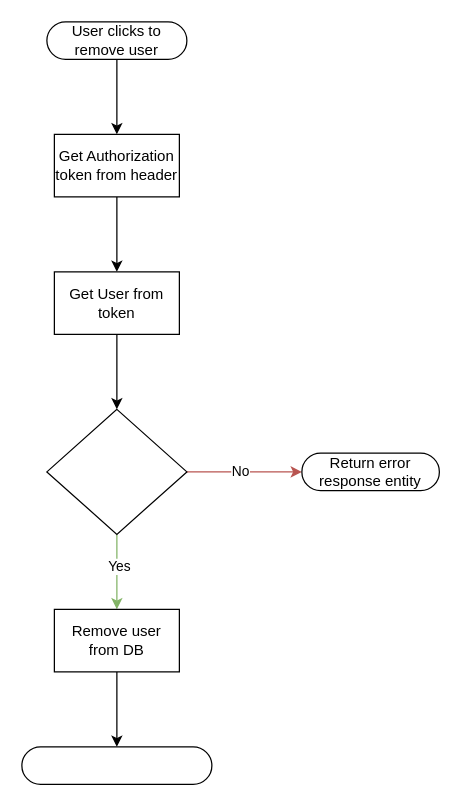
Some shapes in this 461 by 806 pixel diagram are drawn without their labels. The shapes that lost their labels are listed below. From the top down, each one's box as (x1, y1, x2, y2) in pixels, then its label:
(46, 408, 187, 534): User is authorized to create new operation?
(21, 746, 212, 784): Return response entity
